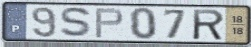0: (126, 6, 159, 41)
7: (162, 9, 188, 40)
9: (29, 6, 58, 39)
P: (94, 7, 126, 39)
R: (191, 8, 226, 42)
S: (58, 6, 95, 39)
